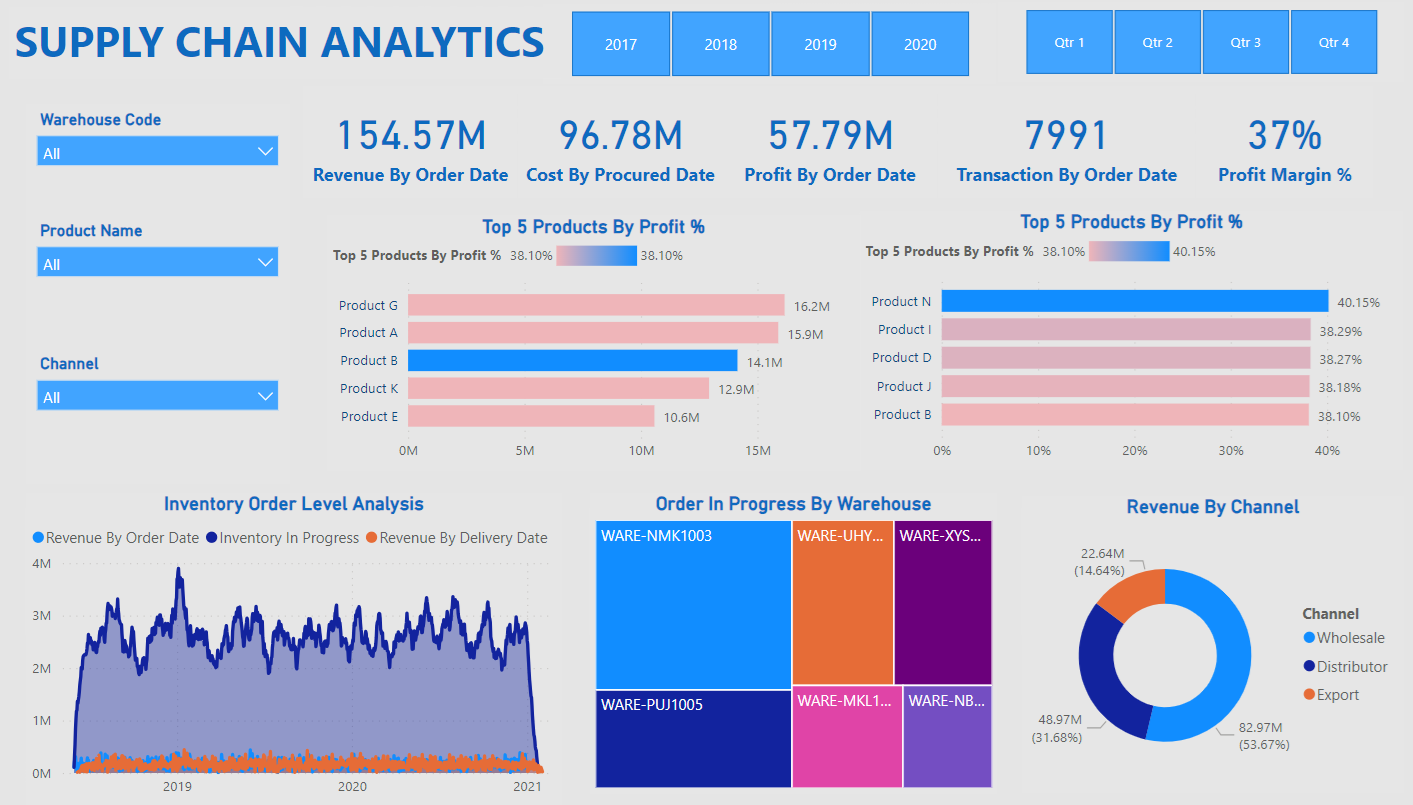

What the dashboard file says about the page in this screenshot:
{"tool":"powerbi","page":{"name":"Supply Chain Analysis","canvas":[1280,720],"ordinal":0},"visuals":[{"type":"slicer","fields":{"Values":["Date.Date.Variation.Date Hierarchy.Quarter"]},"box":[898,3.2,362.4,71.2],"z":0},{"type":"slicer","fields":{"Values":["Date.Date.Variation.Date Hierarchy.Year"]},"box":[492.7,3.8,404,71.7],"z":1000},{"type":"card","fields":{"Values":["Specific Calculations.Revenue By Order Date"]},"box":[278.3,77.7,190.9,100.3],"z":2000},{"type":"textbox","box":[30.2,5.7,466.3,66.1],"z":3000},{"type":"areaChart","title":"Inventory Order Level Analysis","fields":{"Y":["Specific Calculations.Revenue By Order Date","Specific Calculations.Inventory In Progress","Specific Calculations.Revenue By Delivery Date"],"Category":["Date.Date"]},"box":[30.7,440.1,478.9,279.9],"z":4000},{"type":"slicer","fields":{"Values":["Warehouse.Warehouse Code"]},"box":[30.7,93.8,236.2,121.3],"z":5000},{"type":"slicer","fields":{"Values":["Products.Product Name"]},"box":[30.7,192.5,236.2,119.7],"z":6000},{"type":"slicer","fields":{"Values":["Sales.Channel"]},"box":[30.7,312.3,236.2,121.3],"z":7000},{"type":"card","fields":{"Values":["Specific Calculations.Cost By Procured Date"]},"box":[469.2,77.7,182.8,100.3],"z":8000},{"type":"card","fields":{"Values":["Specific Calculations.Profit By Order Date"]},"box":[652,77.7,192.5,100.3],"z":9000},{"type":"card","fields":{"Values":["Specific Calculations.Transaction By Order Date"]},"box":[844.6,77.7,229.8,100.3],"z":10000},{"type":"card","fields":{"Values":["Specific Calculations.Profit Margin %"]},"box":[1074.3,77.7,158.6,100.3],"z":11000},{"type":"clusteredBarChart","title":"Top 5 Products By Profit % ","fields":{"Category":["Products.Product Name"],"Y":["Specific Calculations.Top 5 Products By Profit %"]},"box":[775,189.3,485.4,231.4],"z":12000},{"type":"clusteredBarChart","title":"Top 5 Products By Profit % ","fields":{"Category":["Products.Product Name"],"Y":["Specific Calculations.Top 5 Products By Cost"]},"box":[299.3,192.5,475.7,228.1],"z":13000},{"type":"treemap","title":"Order In Progress By Warehouse ","fields":{"Values":["Specific Calculations.Order In Progress"],"Group":["Warehouse.Warehouse Code"]},"box":[533.9,440.1,364,268.6],"z":14000},{"type":"donutChart","title":"Revenue By  Channel","fields":{"Y":["Specific Calculations.Revenue By Order Date"],"Category":["Sales.Channel"]},"box":[919,443.3,341.4,265.3],"z":16000}]}

Visuals, with their boxes in screenshot pixels (x1, y1, x2, y2), scaled from the page's 1280x720 canvas onto the 1413x805 screenshot:
slicer - Date.Date.Variation.Date Hierarchy.Quarter: detection(991, 4, 1391, 83)
slicer - Date.Date.Variation.Date Hierarchy.Year: detection(544, 4, 990, 84)
card - Specific Calculations.Revenue By Order Date: detection(307, 87, 518, 199)
textbox: detection(33, 6, 548, 80)
"Inventory Order Level Analysis" areaChart: detection(34, 492, 563, 804)
slicer - Warehouse.Warehouse Code: detection(34, 105, 295, 240)
slicer - Products.Product Name: detection(34, 215, 295, 349)
slicer - Sales.Channel: detection(34, 349, 295, 485)
card - Specific Calculations.Cost By Procured Date: detection(518, 87, 720, 199)
card - Specific Calculations.Profit By Order Date: detection(720, 87, 932, 199)
card - Specific Calculations.Transaction By Order Date: detection(932, 87, 1186, 199)
card - Specific Calculations.Profit Margin %: detection(1186, 87, 1361, 199)
"Top 5 Products By Profit % " clusteredBarChart: detection(856, 212, 1391, 470)
"Top 5 Products By Profit % " clusteredBarChart: detection(330, 215, 856, 470)
"Order In Progress By Warehouse " treemap: detection(589, 492, 991, 792)
"Revenue By  Channel" donutChart: detection(1014, 496, 1391, 792)
